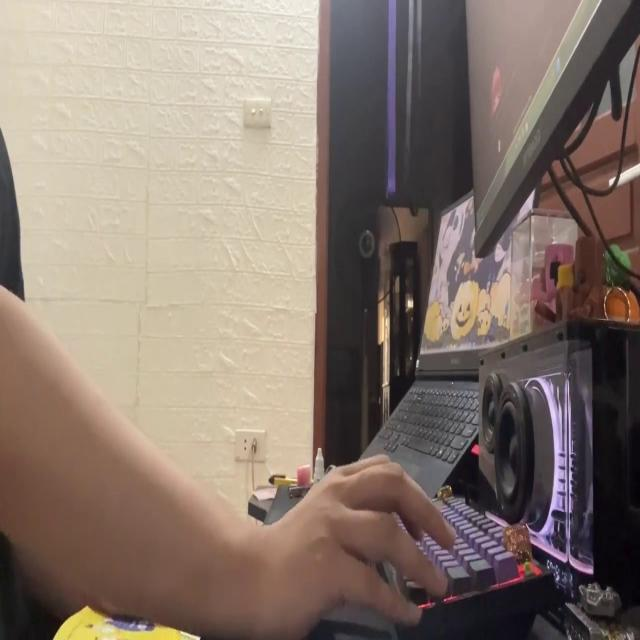laptop: (353, 163, 542, 506), (465, 0, 640, 248)
student: (0, 132, 462, 640)
